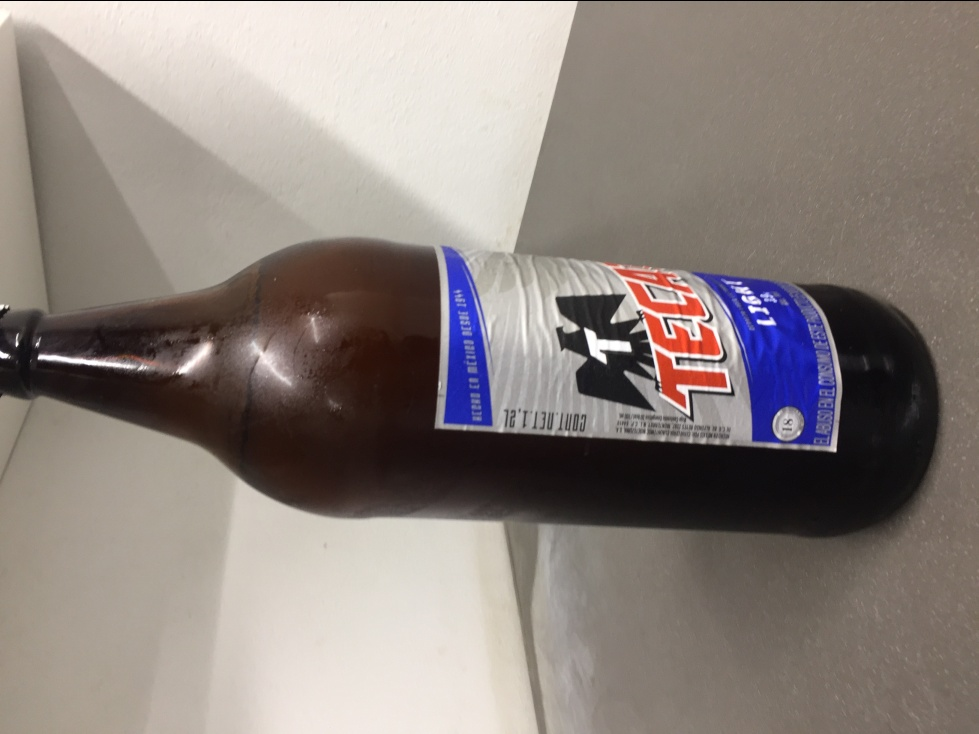tecateC: (9, 238, 945, 549)
